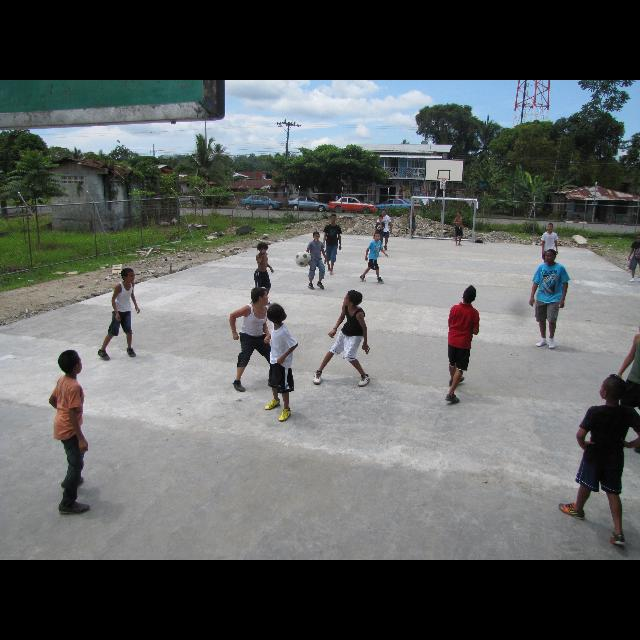head: (599, 373, 627, 401), (57, 350, 83, 374), (251, 287, 269, 307), (343, 290, 363, 306), (268, 305, 282, 323), (121, 268, 135, 284), (462, 287, 476, 303), (545, 248, 557, 264), (258, 242, 268, 255), (312, 231, 320, 241), (330, 215, 338, 223), (374, 233, 381, 241), (548, 223, 554, 231), (378, 215, 384, 222), (382, 209, 386, 215), (408, 208, 414, 212), (458, 212, 462, 218), (337, 194, 338, 196)
person: (46, 349, 94, 516), (312, 290, 373, 388), (228, 286, 284, 392), (262, 303, 300, 423), (443, 284, 481, 404), (96, 266, 142, 362), (528, 248, 570, 352), (250, 242, 276, 306), (358, 232, 389, 284), (304, 232, 328, 290), (322, 212, 342, 276), (540, 222, 560, 278), (376, 208, 394, 250), (372, 215, 386, 258), (453, 212, 465, 246), (407, 207, 417, 239), (334, 194, 340, 210)
